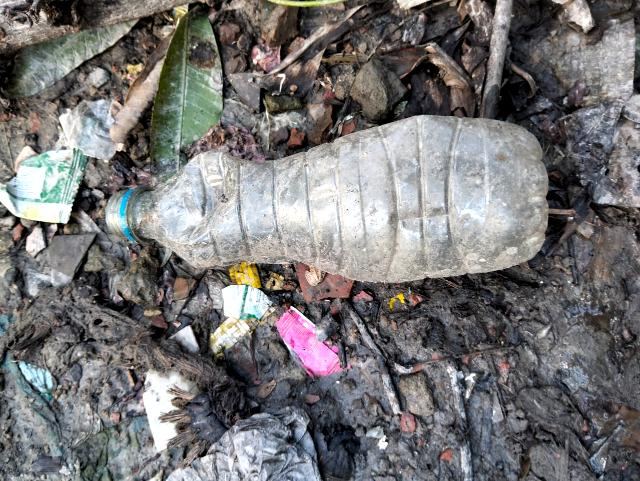bottle: (147, 106, 553, 284)
